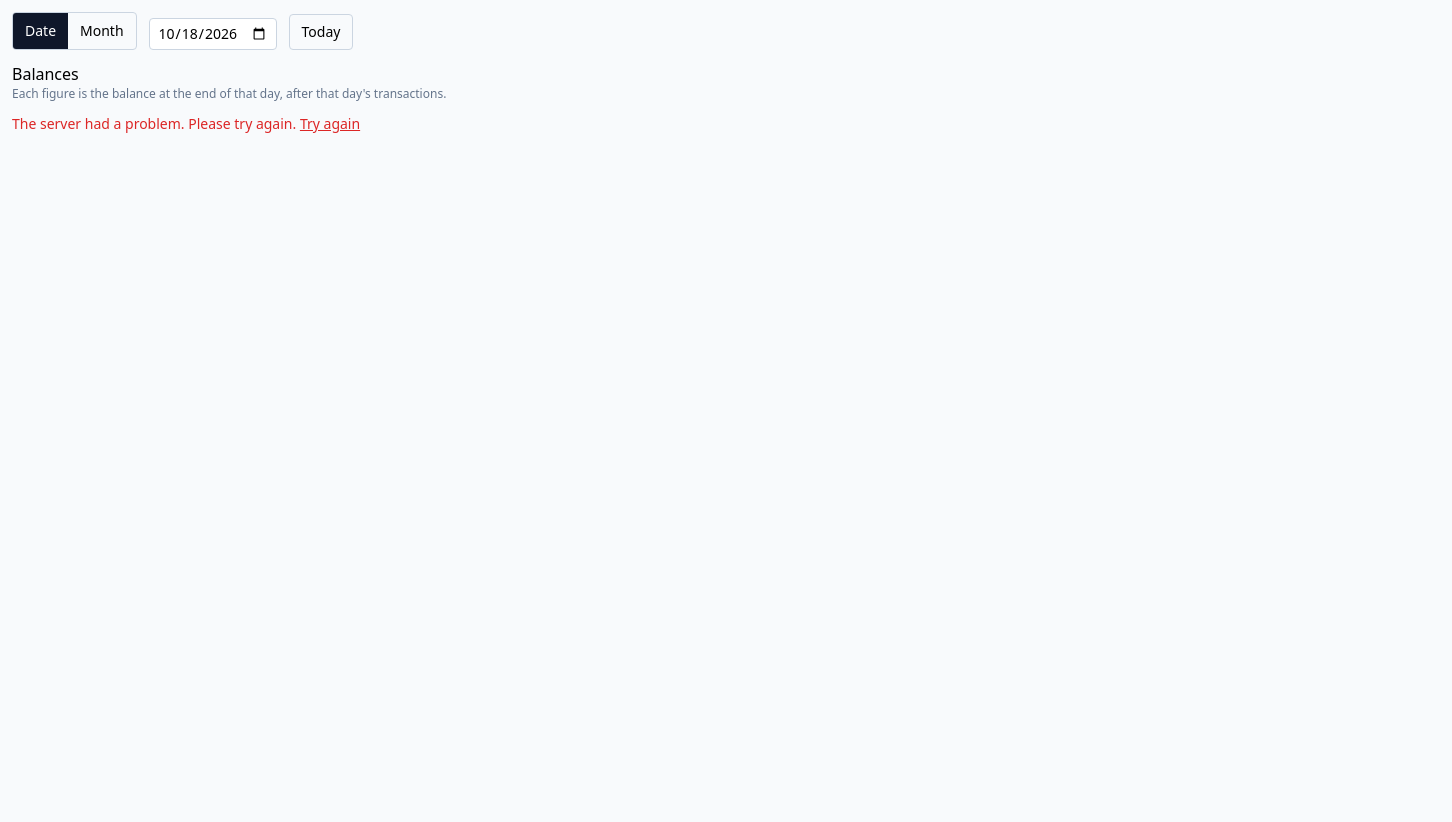
Test case: BalanceLookup › when it goes wrong › shows the sentence and a Try again that asks once more, and does not retry on its own
Expected: the message with test id "balances-error" shows "The server had a problem. Please try again.", [12, 114, 296, 133]
Step 1. Click the button with test id "balances-retry" → (330,124), box [300, 114, 360, 134]
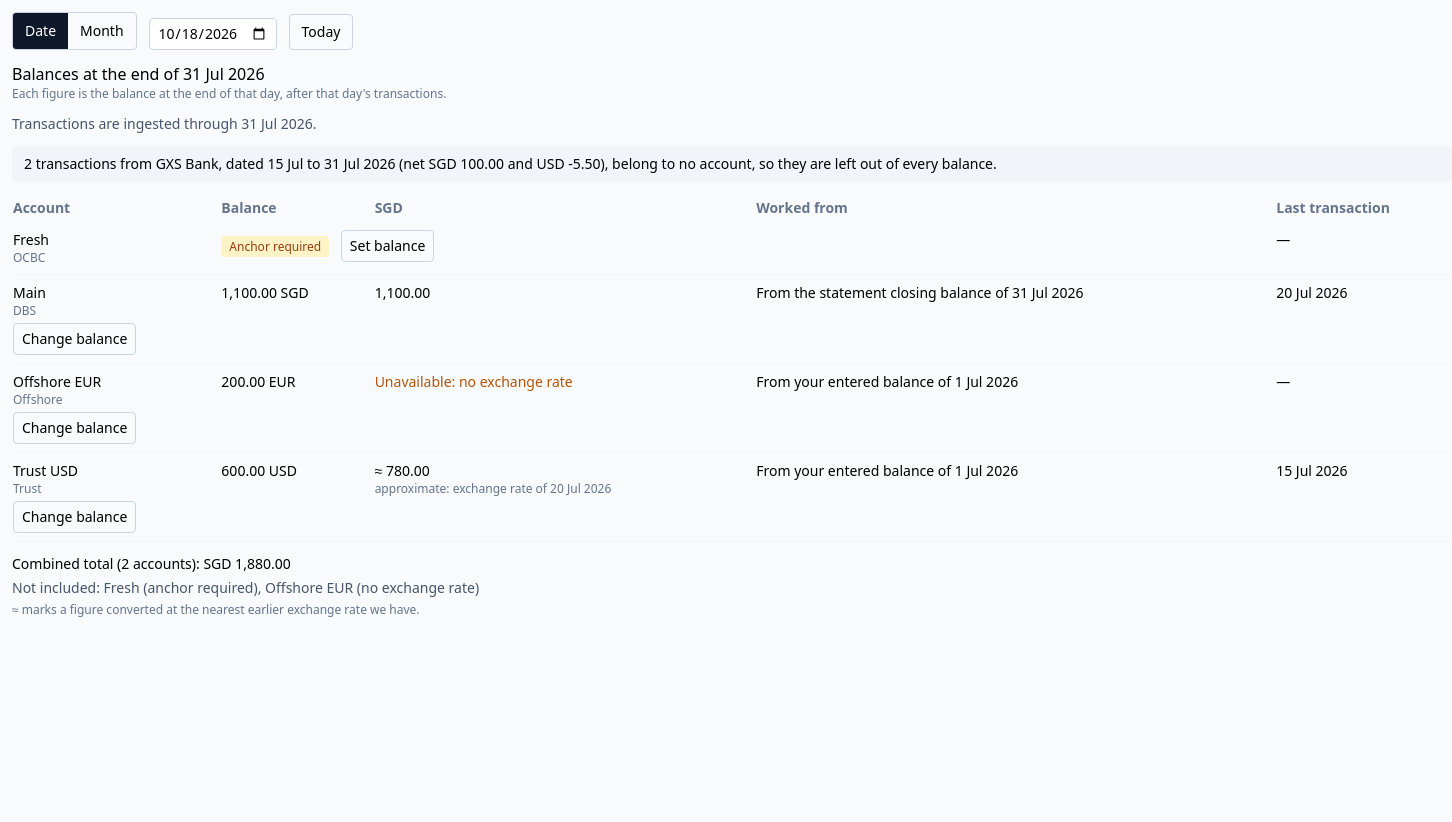
Expected: the table with test id "balances-table" is shown, [12, 194, 1451, 542]
Expected: the message with test id "balances-error" is gone
